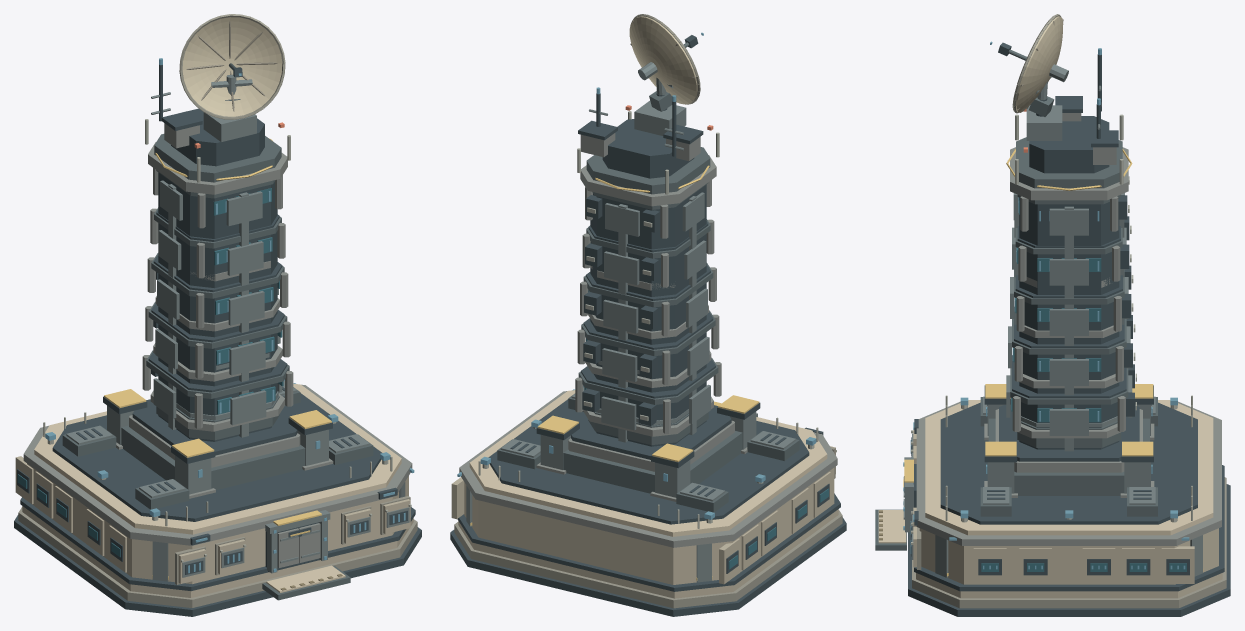
Rendered from sandforge_bastion_mk2_offline.glb.
3 views of the same model, side by side, from view 1: azimuth 30°, elevation 25°; view 2: azimuth 150°, elevation 25°; view 3: azimuth 270°, elevation 25° (orthographic). The views are drawn at different scales.
Parts seen in each view (by area): view 1: Bastion_Static_black, Bastion_Static_steel, Bastion_Static_armor, Bastion_Static_frame, Bastion_Static_concrete, Bastion_Static_sandplate, Radar_Dish_Pivot_dish, Bastion_Static_edge, Bastion_Static_glass, Bastion_Static_yellow, Bastion_Static_dim, Radar_Dish_Pivot_edge (+4 smaller); view 2: Bastion_Static_black, Bastion_Static_armor, Bastion_Static_concrete, Bastion_Static_steel, Bastion_Static_frame, Bastion_Static_sandplate, Bastion_Static_edge, Radar_Dish_Pivot_dish, Bastion_Static_yellow, Bastion_Static_bolt, Bastion_Static_dim; view 3: Bastion_Static_black, Bastion_Static_armor, Bastion_Static_steel, Bastion_Static_concrete, Bastion_Static_frame, Bastion_Static_sandplate, Bastion_Static_edge, Bastion_Static_glass, Bastion_Static_yellow, Radar_Dish_Pivot_dish, Bastion_Static_dim, Bastion_Static_bolt.
Part boxes in pixels (bbox=[...]): Bastion_Static_black: bbox=[14, 65, 421, 616]; Bastion_Static_steel: bbox=[66, 92, 409, 581]; Bastion_Static_armor: bbox=[23, 123, 412, 545]; Bastion_Static_frame: bbox=[62, 134, 373, 600]; Bastion_Static_concrete: bbox=[15, 456, 413, 597]; Bastion_Static_sandplate: bbox=[34, 383, 401, 592]; Radar_Dish_Pivot_dish: bbox=[182, 17, 282, 116]; Bastion_Static_edge: bbox=[18, 496, 417, 607]; Bastion_Static_glass: bbox=[17, 188, 283, 557]; Bastion_Static_yellow: bbox=[104, 138, 331, 579]; Bastion_Static_dim: bbox=[45, 58, 414, 573]; Radar_Dish_Pivot_edge: bbox=[179, 14, 285, 119]; Bastion_Static_black: bbox=[450, 92, 846, 616]; Bastion_Static_armor: bbox=[459, 133, 837, 547]; Bastion_Static_concrete: bbox=[451, 446, 838, 598]; Bastion_Static_steel: bbox=[466, 100, 796, 582]; Bastion_Static_frame: bbox=[497, 147, 799, 512]; Bastion_Static_sandplate: bbox=[469, 390, 827, 536]; Bastion_Static_edge: bbox=[454, 447, 842, 608]; Radar_Dish_Pivot_dish: bbox=[629, 16, 697, 104]; Bastion_Static_yellow: bbox=[470, 165, 759, 580]; Bastion_Static_bolt: bbox=[478, 111, 836, 528]; Bastion_Static_dim: bbox=[457, 87, 816, 519]; Bastion_Static_black: bbox=[904, 54, 1230, 616]; Bastion_Static_armor: bbox=[916, 113, 1221, 545]; Bastion_Static_steel: bbox=[904, 85, 1202, 577]; Bastion_Static_concrete: bbox=[913, 430, 1222, 598]; Bastion_Static_frame: bbox=[875, 137, 1157, 550]; Bastion_Static_sandplate: bbox=[878, 400, 1213, 543]; Bastion_Static_edge: bbox=[912, 477, 1226, 608]; Bastion_Static_glass: bbox=[981, 198, 1186, 571]; Bastion_Static_yellow: bbox=[903, 149, 1203, 576]; Radar_Dish_Pivot_dish: bbox=[1015, 16, 1063, 112]; Bastion_Static_dim: bbox=[903, 48, 1189, 569]; Bastion_Static_bolt: bbox=[911, 114, 1192, 544].
Bounding box in the file's own units: 17.4 × 29.4 × 17.95.
